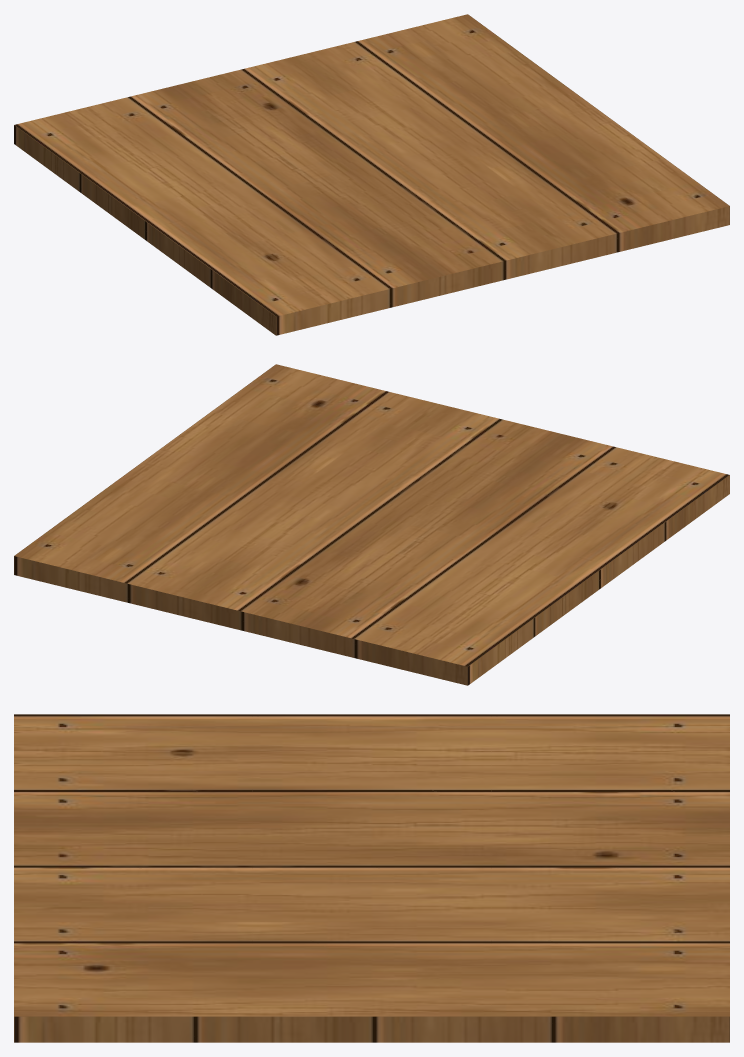
File: interior_floor_plank.glb
3 views of the same model, one above another, from view 1: azimuth 30°, elevation 25°; view 2: azimuth 150°, elevation 25°; view 3: azimuth 270°, elevation 25° (orthographic). The views are drawn at different scales.
Visible parts, largest first — view 1: interior_floor_plank; view 2: interior_floor_plank; view 3: interior_floor_plank.
Boxes of the visible parts, bbox=[...] form: interior_floor_plank: bbox=[14, 14, 729, 335]; interior_floor_plank: bbox=[14, 364, 729, 685]; interior_floor_plank: bbox=[14, 714, 729, 1042].
Size of the model in its own units: 1 by 0.04 by 1.
Materials: 1 (1 with a texture image).
